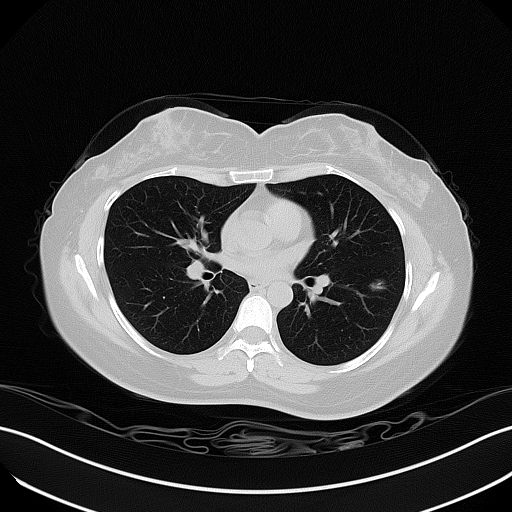nodule: (367, 279, 386, 291)
